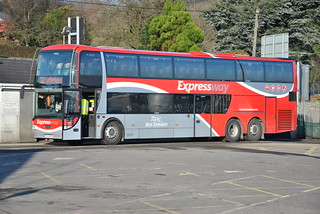bus: (32, 44, 297, 144)
